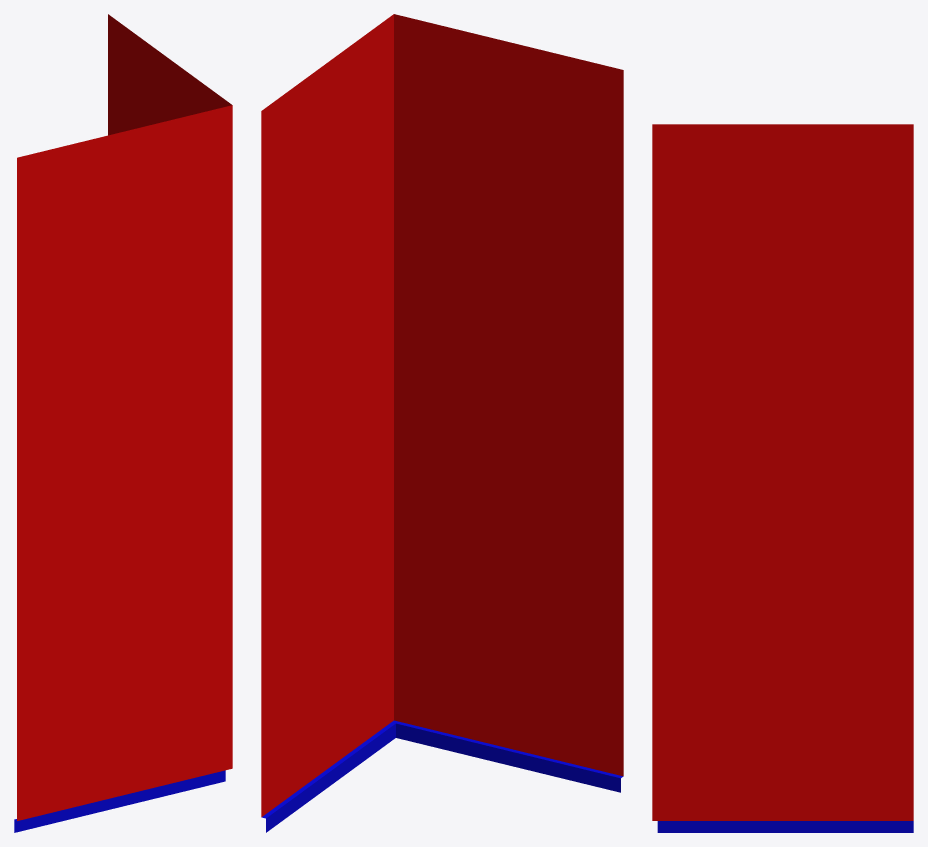
File: InsideCornerHighWall.fbx
3 renders of one model, left to right at view 1: azimuth 30°, elevation 25°; view 2: azimuth 150°, elevation 25°; view 3: azimuth 270°, elevation 25°, orthographic. The views are drawn at different scales.
Visible parts, largest first — view 1: Plane.098; view 2: Plane.098; view 3: Plane.098.
Part boxes in pixels (bbox=[...]): Plane.098: bbox=[14, 14, 232, 832]; Plane.098: bbox=[261, 14, 623, 832]; Plane.098: bbox=[652, 124, 913, 832].
Size of the model in its own units: 1 by 3 by 1.
